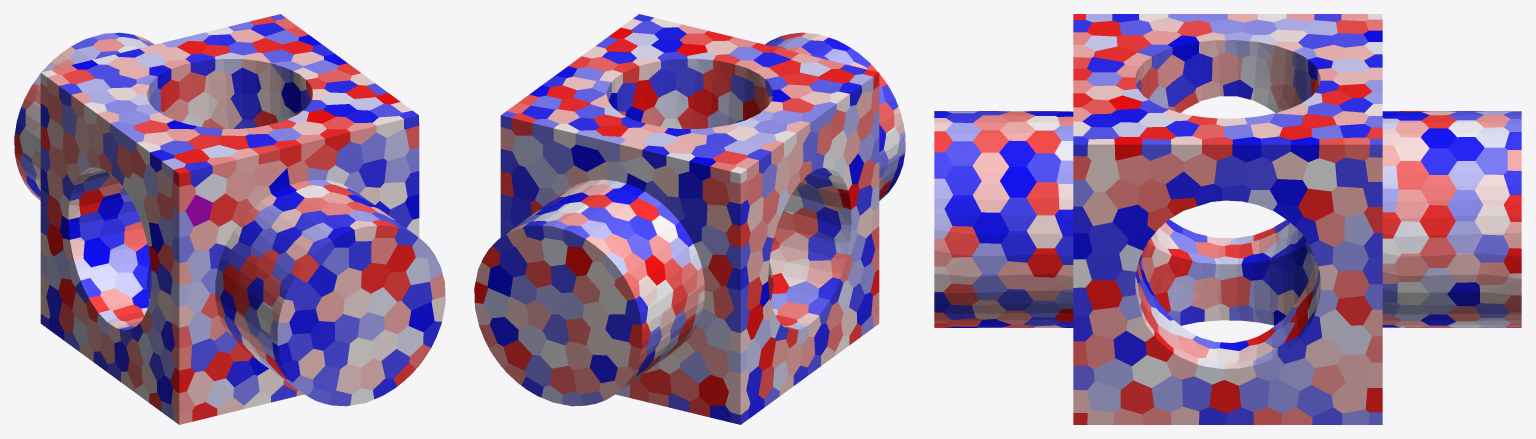
Rendered from Ours_1000_block_Iter48_RVD.obj.
The picture shows the model from 3 angles, left to right: view 1: azimuth 30°, elevation 25°; view 2: azimuth 150°, elevation 25°; view 3: azimuth 270°, elevation 25°; orthographic projection. The views are drawn at different scales.
Visible parts, largest first — view 1: 3D_Object; view 2: 3D_Object; view 3: 3D_Object.
Boxes of the visible parts, x1,y1,x2,y2 form: 3D_Object: [14, 14, 445, 424]; 3D_Object: [474, 14, 905, 424]; 3D_Object: [934, 14, 1521, 424].
Size of the model in its own units: 20 by 20 by 38.
1 material, 1 textured.
